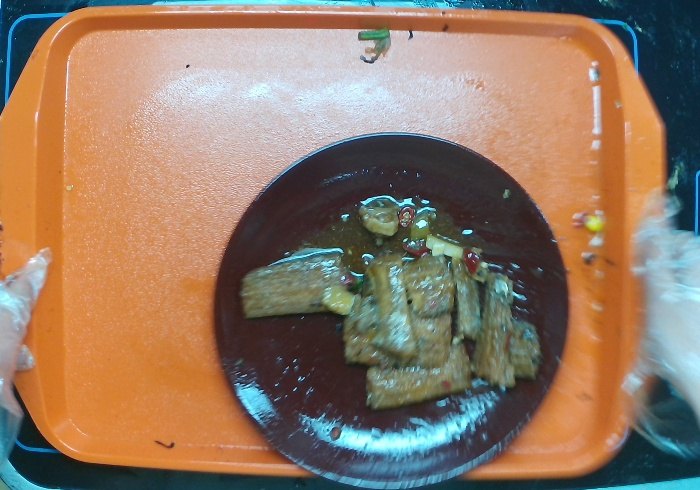HZYJPL-Ka_Fei_Yuan_Pan: (212, 132, 575, 482)
